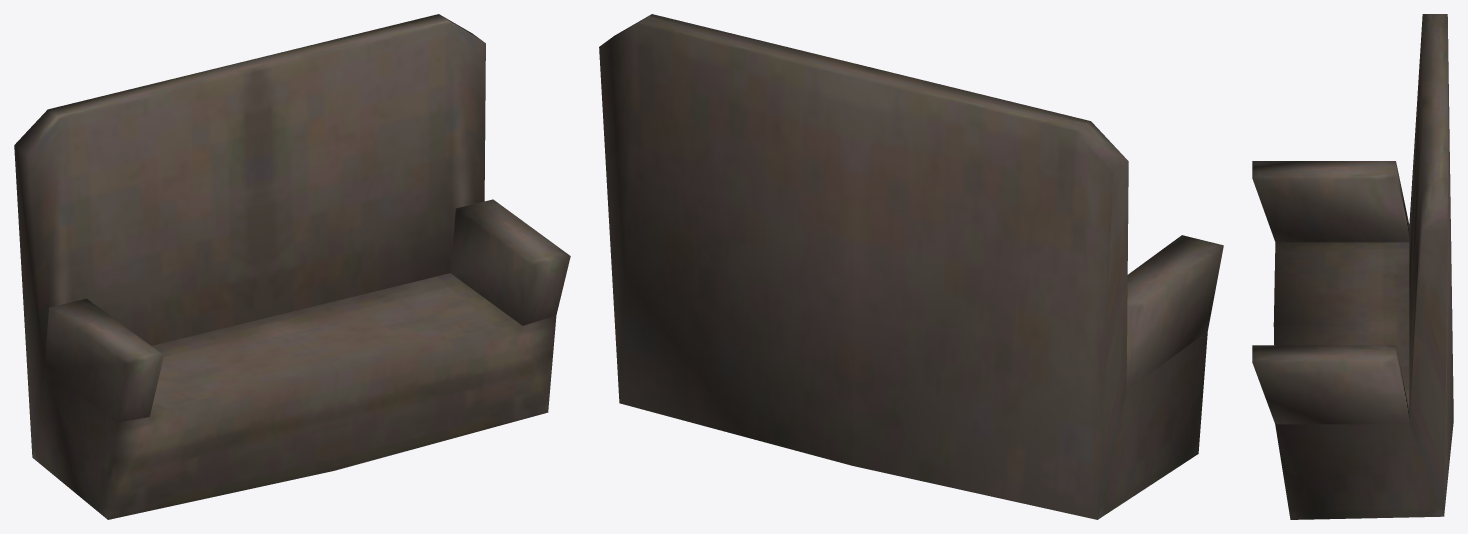
The model's file is frn_all_couch_love_seat_s2_l2.fbx.
The picture shows the model from 3 angles, left to right: view 1: azimuth 30°, elevation 25°; view 2: azimuth 150°, elevation 25°; view 3: azimuth 270°, elevation 25°; orthographic projection. The views are drawn at different scales.
Visible parts, largest first — view 1: mesh_node; view 2: mesh_node; view 3: mesh_node.
Part boxes in pixels (box(x1,y1,x2,y2)): mesh_node: box(14, 14, 570, 519); mesh_node: box(599, 14, 1223, 519); mesh_node: box(1252, 14, 1453, 519).
Size of the model in its own units: 1.73 by 1.24 by 0.7112.
